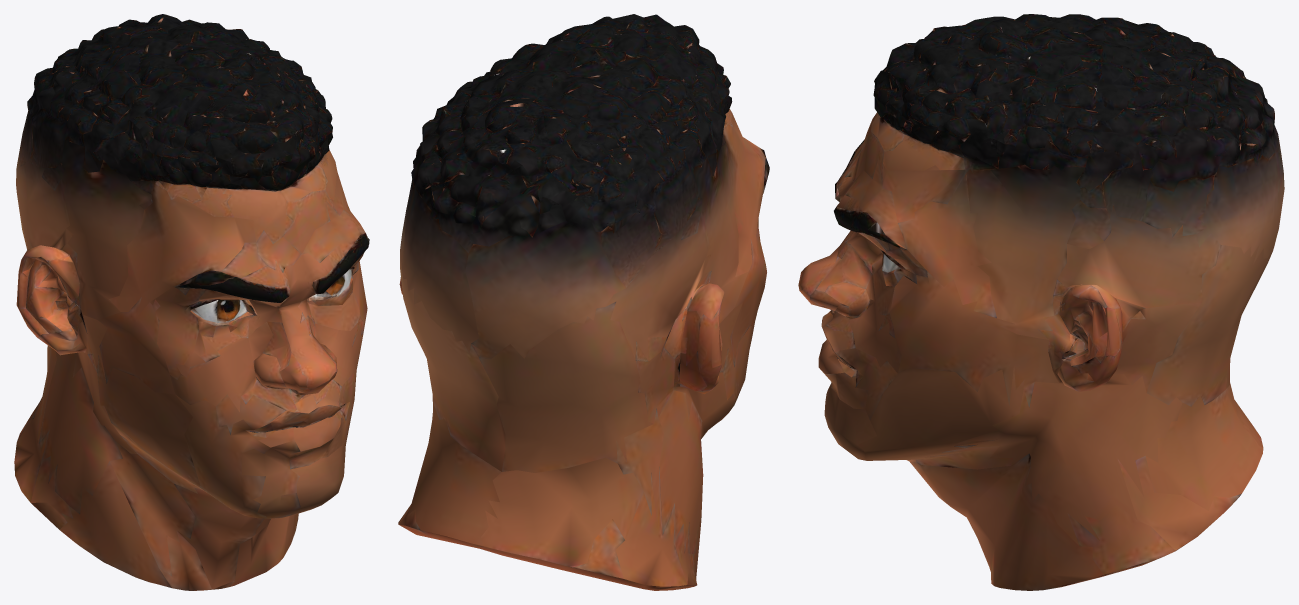
File: hdHumanBrown.421f80059e.glb
3 renders of one model, left to right at view 1: azimuth 30°, elevation 25°; view 2: azimuth 150°, elevation 25°; view 3: azimuth 270°, elevation 25°, orthographic. The views are drawn at different scales.
Bounding box in the file's own units: 1.17 × 1.9 × 1.54.
1 material, 1 textured.
